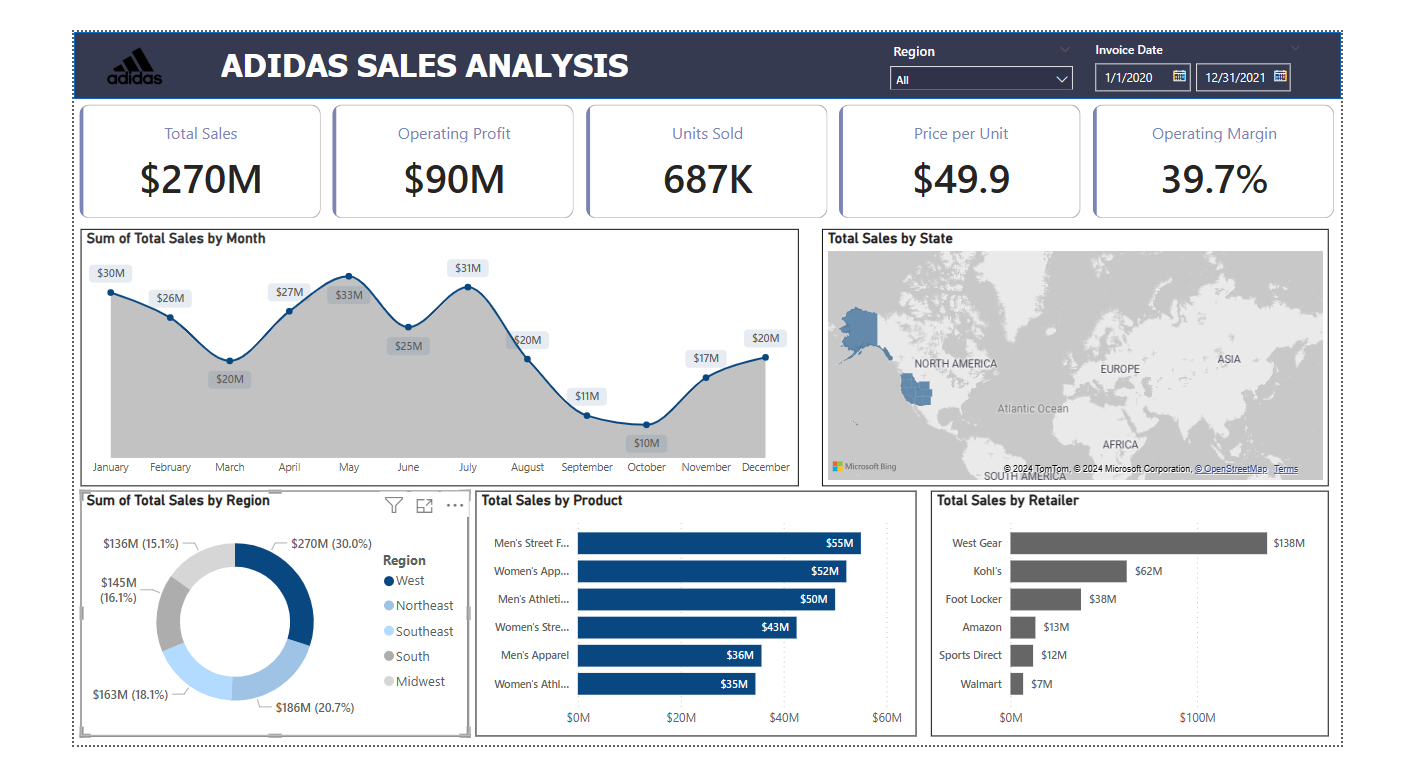

Layout of this report page (visuals, bound fields, positions):
{"tool":"powerbi","page":{"name":"Adidas Dashboard","canvas":[1280,720],"ordinal":0},"visuals":[{"type":"shape","box":[0,0,1280,67.8],"z":0},{"type":"textbox","box":[143.3,7.8,431.1,52.2],"z":1000},{"type":"image","box":[24.4,10,74.4,47.8],"z":2000},{"type":"cardVisual","fields":{"Data":["Sum(Data Sales Adidas.Total Sales)","Sum(Data Sales Adidas.Operating Profit)","Sum(Data Sales Adidas.Units Sold)","Avg(Data Sales Adidas.Price per Unit)","Avg(Data Sales Adidas.Operating Margin)"]},"box":[0,67.8,1280,125.6],"z":3000},{"type":"areaChart","fields":{"Category":["Data Sales Adidas.Invoice Date.Variation.Date Hierarchy.Month"],"Y":["Sum(Data Sales Adidas.Total Sales)"]},"box":[6.7,198.9,725.6,260],"z":4000},{"type":"filledMap","title":"Total Sales by State","fields":{"Category":["Data Sales Adidas.State"],"Y":["Sum(Data Sales Adidas.Total Sales)"]},"box":[755.6,198.9,512.2,260],"z":5000},{"type":"donutChart","fields":{"Category":["Data Sales Adidas.Region"],"Y":["Sum(Data Sales Adidas.Total Sales)"]},"box":[6.7,463.3,392.2,247.8],"z":6000},{"type":"barChart","title":"Total Sales by Product","fields":{"Category":["Data Sales Adidas.Product"],"Y":["Sum(Data Sales Adidas.Total Sales)"]},"box":[405.6,463.3,445.6,247.8],"z":7000},{"type":"barChart","title":"Total Sales by Retailer","fields":{"Y":["Sum(Data Sales Adidas.Total Sales)"],"Category":["Data Sales Adidas.Retailer"]},"box":[865.6,463.3,402.2,247.8],"z":8000},{"type":"slicer","fields":{"Values":["Data Sales Adidas.Region"]},"box":[814.4,4.4,204.4,53.3],"z":9000},{"type":"slicer","fields":{"Values":["Data Sales Adidas.Invoice Date"]},"box":[1018.9,4.4,232.2,60],"z":10000}]}

Visuals, with their boxes in screenshot pixels (x1, y1, x2, y2), scaled from the page's 1280x720 canvas onto the 1409x771 screenshot:
shape: crop(0, 0, 1408, 73)
textbox: crop(158, 8, 632, 64)
image: crop(27, 11, 109, 62)
cardVisual - Sum(Data Sales Adidas.Total Sales) x Sum(Data Sales Adidas.Operating Profit): crop(0, 73, 1408, 207)
areaChart - Data Sales Adidas.Invoice Date.Variation.Date Hierarchy.Month x Sum(Data Sales Adidas.Total Sales): crop(7, 213, 806, 491)
"Total Sales by State" filledMap: crop(832, 213, 1396, 491)
donutChart - Data Sales Adidas.Region x Sum(Data Sales Adidas.Total Sales): crop(7, 496, 439, 761)
"Total Sales by Product" barChart: crop(446, 496, 937, 761)
"Total Sales by Retailer" barChart: crop(953, 496, 1396, 761)
slicer - Data Sales Adidas.Region: crop(896, 5, 1121, 62)
slicer - Data Sales Adidas.Invoice Date: crop(1122, 5, 1377, 69)
